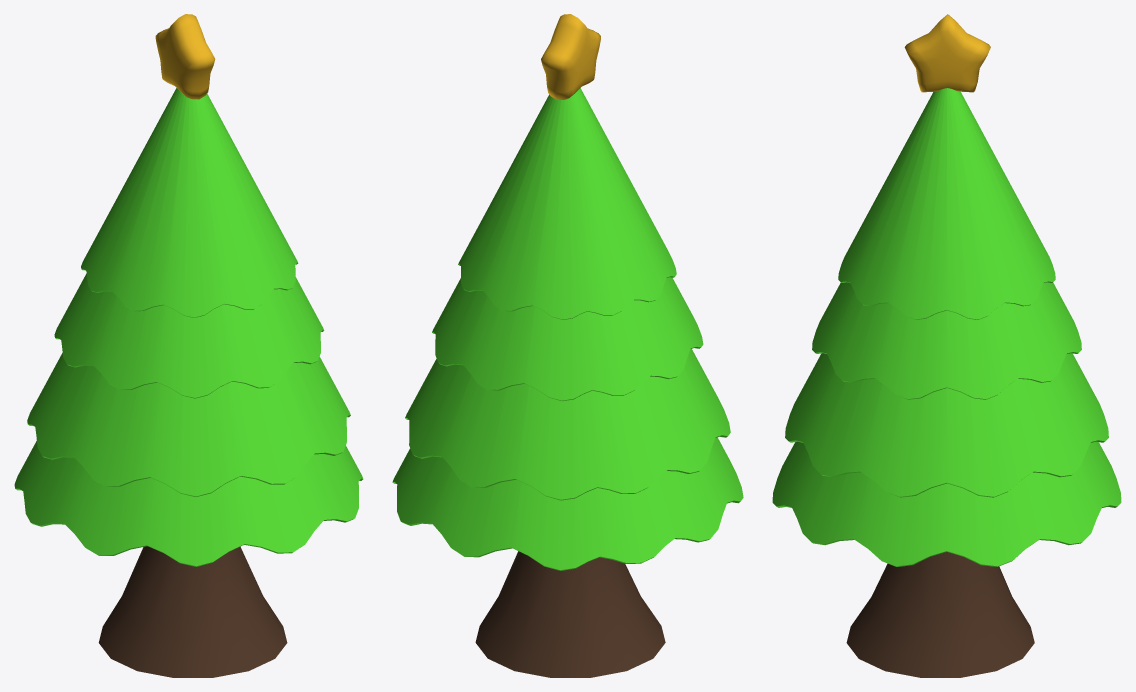
Rendered from arbol_uvs.fbx.
3 views of the same model, side by side, from view 1: azimuth 30°, elevation 25°; view 2: azimuth 150°, elevation 25°; view 3: azimuth 270°, elevation 25° (orthographic).
Visible parts, largest first — view 1: Cylinder.005; view 2: Cylinder.005; view 3: Cylinder.005.
Part boxes in pixels (x1,y1,x2,y2): Cylinder.005: (14, 14, 363, 677); Cylinder.005: (392, 14, 743, 677); Cylinder.005: (772, 14, 1121, 677).
Bounding box in the file's own units: 326 × 647 × 329.
